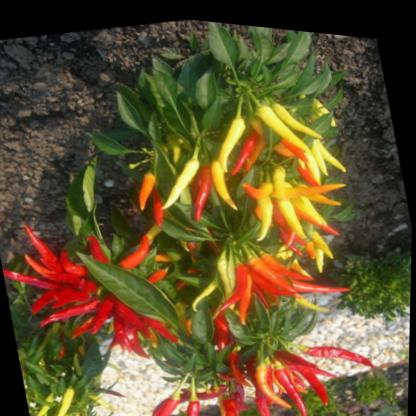chilli_pepper: (276, 312, 390, 384), (247, 342, 319, 416), (202, 250, 260, 330), (130, 378, 196, 416), (204, 373, 248, 416), (174, 382, 213, 416)
